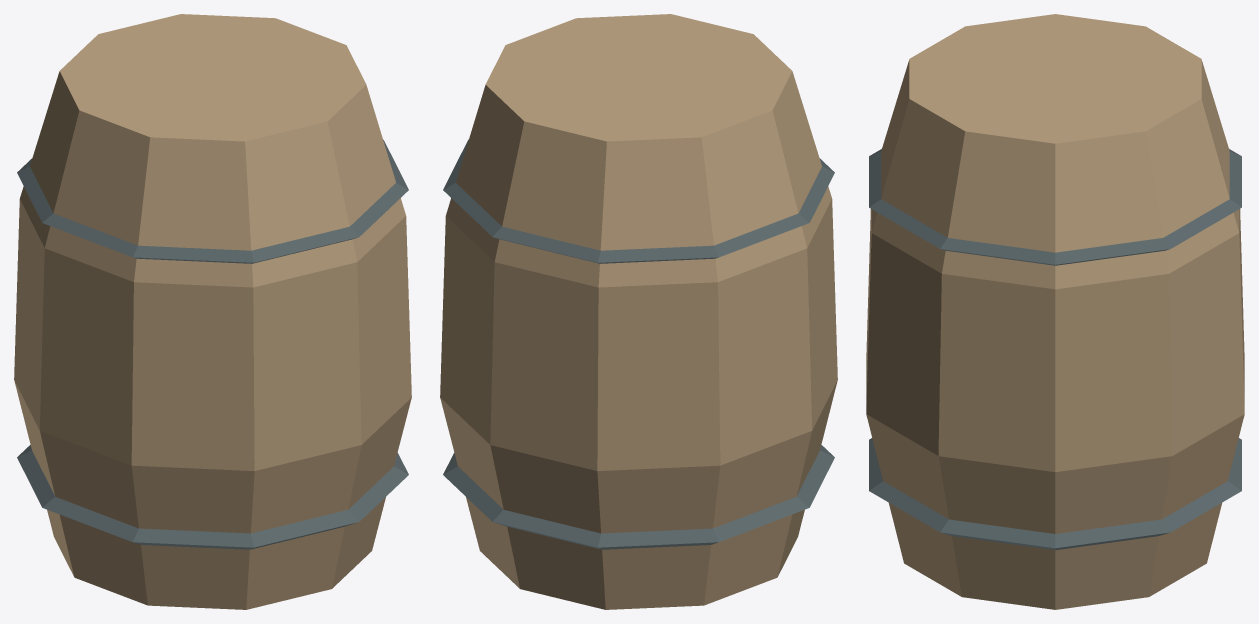
Rendered from barrel.glb.
3 renders of one model, left to right at view 1: azimuth 30°, elevation 25°; view 2: azimuth 150°, elevation 25°; view 3: azimuth 270°, elevation 25°, orthographic.
Parts seen in each view (by area): view 1: Staves, Hoop, Hoop.001; view 2: Staves, Hoop, Hoop.001; view 3: Staves, Hoop, Hoop.001.
Part boxes in pixels (x1,y1,x2,y2): Staves: [14, 14, 411, 609]; Hoop: [17, 445, 408, 549]; Hoop.001: [17, 139, 408, 263]; Staves: [440, 14, 837, 609]; Hoop: [443, 445, 834, 549]; Hoop.001: [443, 139, 834, 263]; Staves: [866, 14, 1244, 609]; Hoop: [869, 438, 1241, 550]; Hoop.001: [869, 149, 1241, 265].
Size of the model in its own units: 0.7 by 0.9 by 0.6657.
